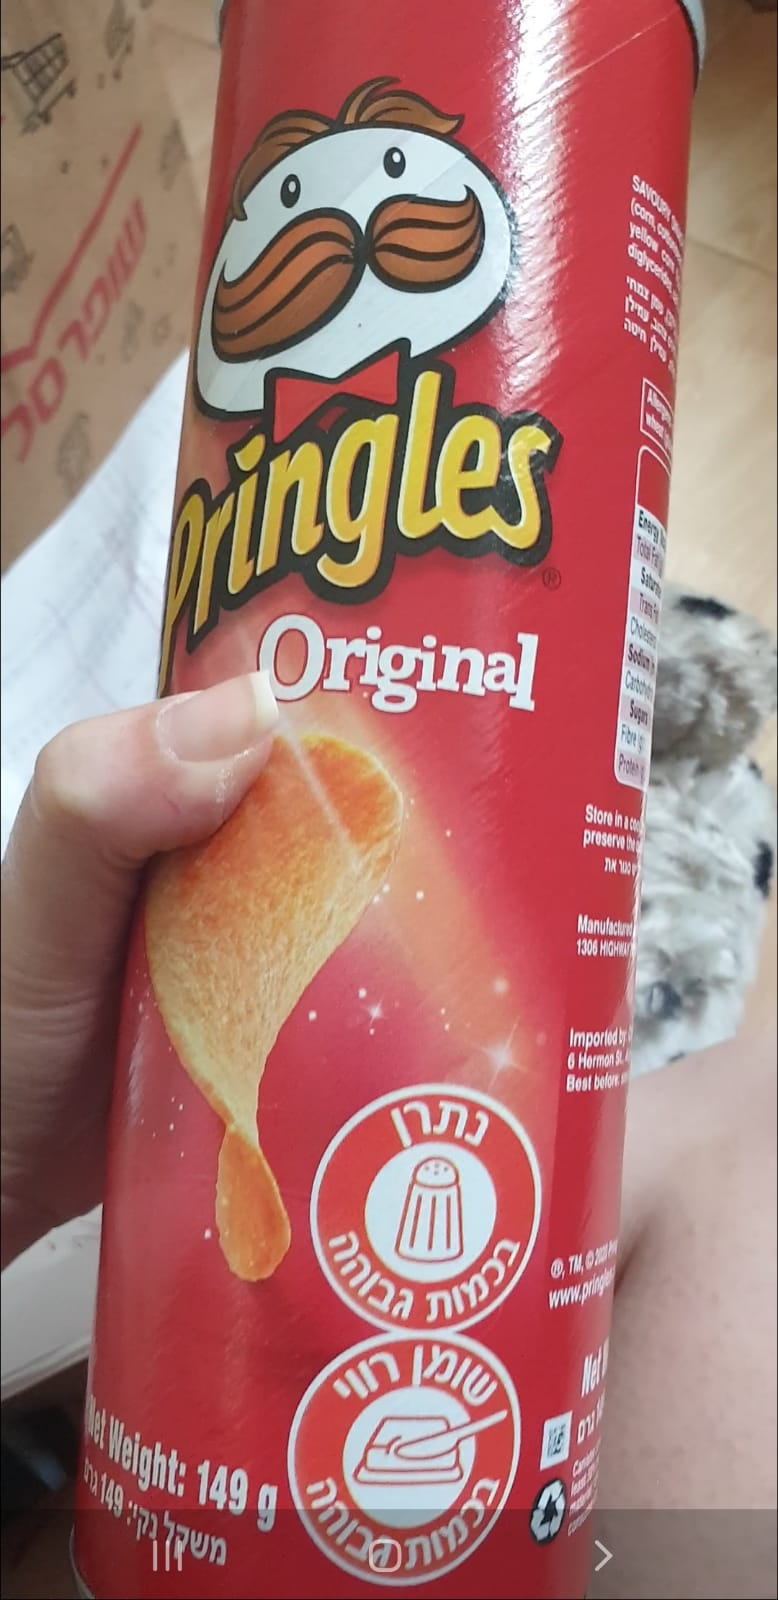fat: (285, 1330, 523, 1586)
salt: (306, 1085, 545, 1335)
